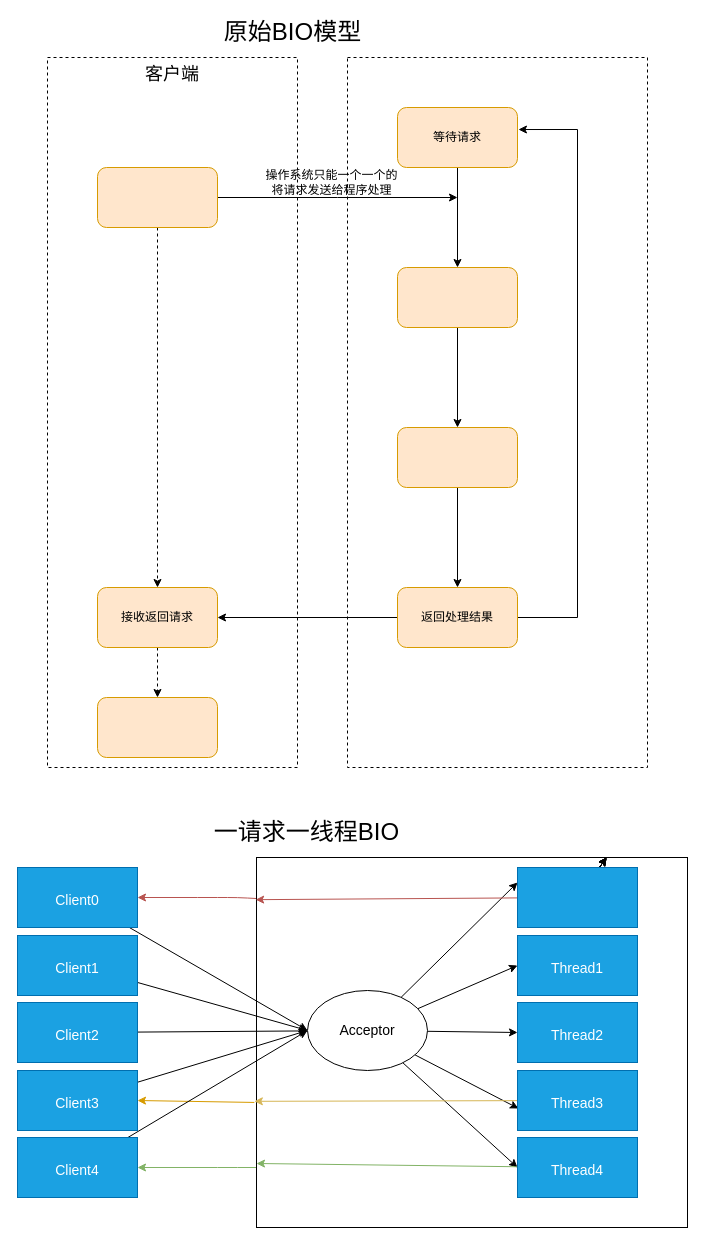
This 705x1245 diagram has some shape labels left out. The box of each missing label's shape, as (x1, y1, x2, y2) in pixels:
Server: (256, 856, 688, 1228)
Thread0: (516, 866, 638, 928)
发送请求: (96, 166, 218, 228)
完成，做其他事: (96, 696, 218, 758)
接收信息: (396, 266, 518, 328)
服务器端: (346, 56, 648, 768)
进行请求处理: (396, 426, 518, 488)
